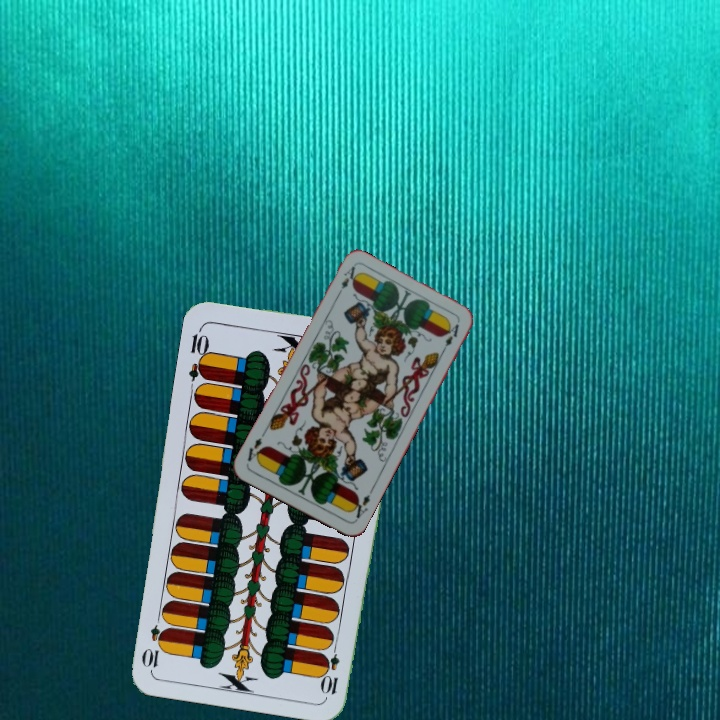E10: (184, 324, 213, 383), (320, 638, 343, 697)
EA: (333, 262, 359, 300), (347, 490, 373, 523)
